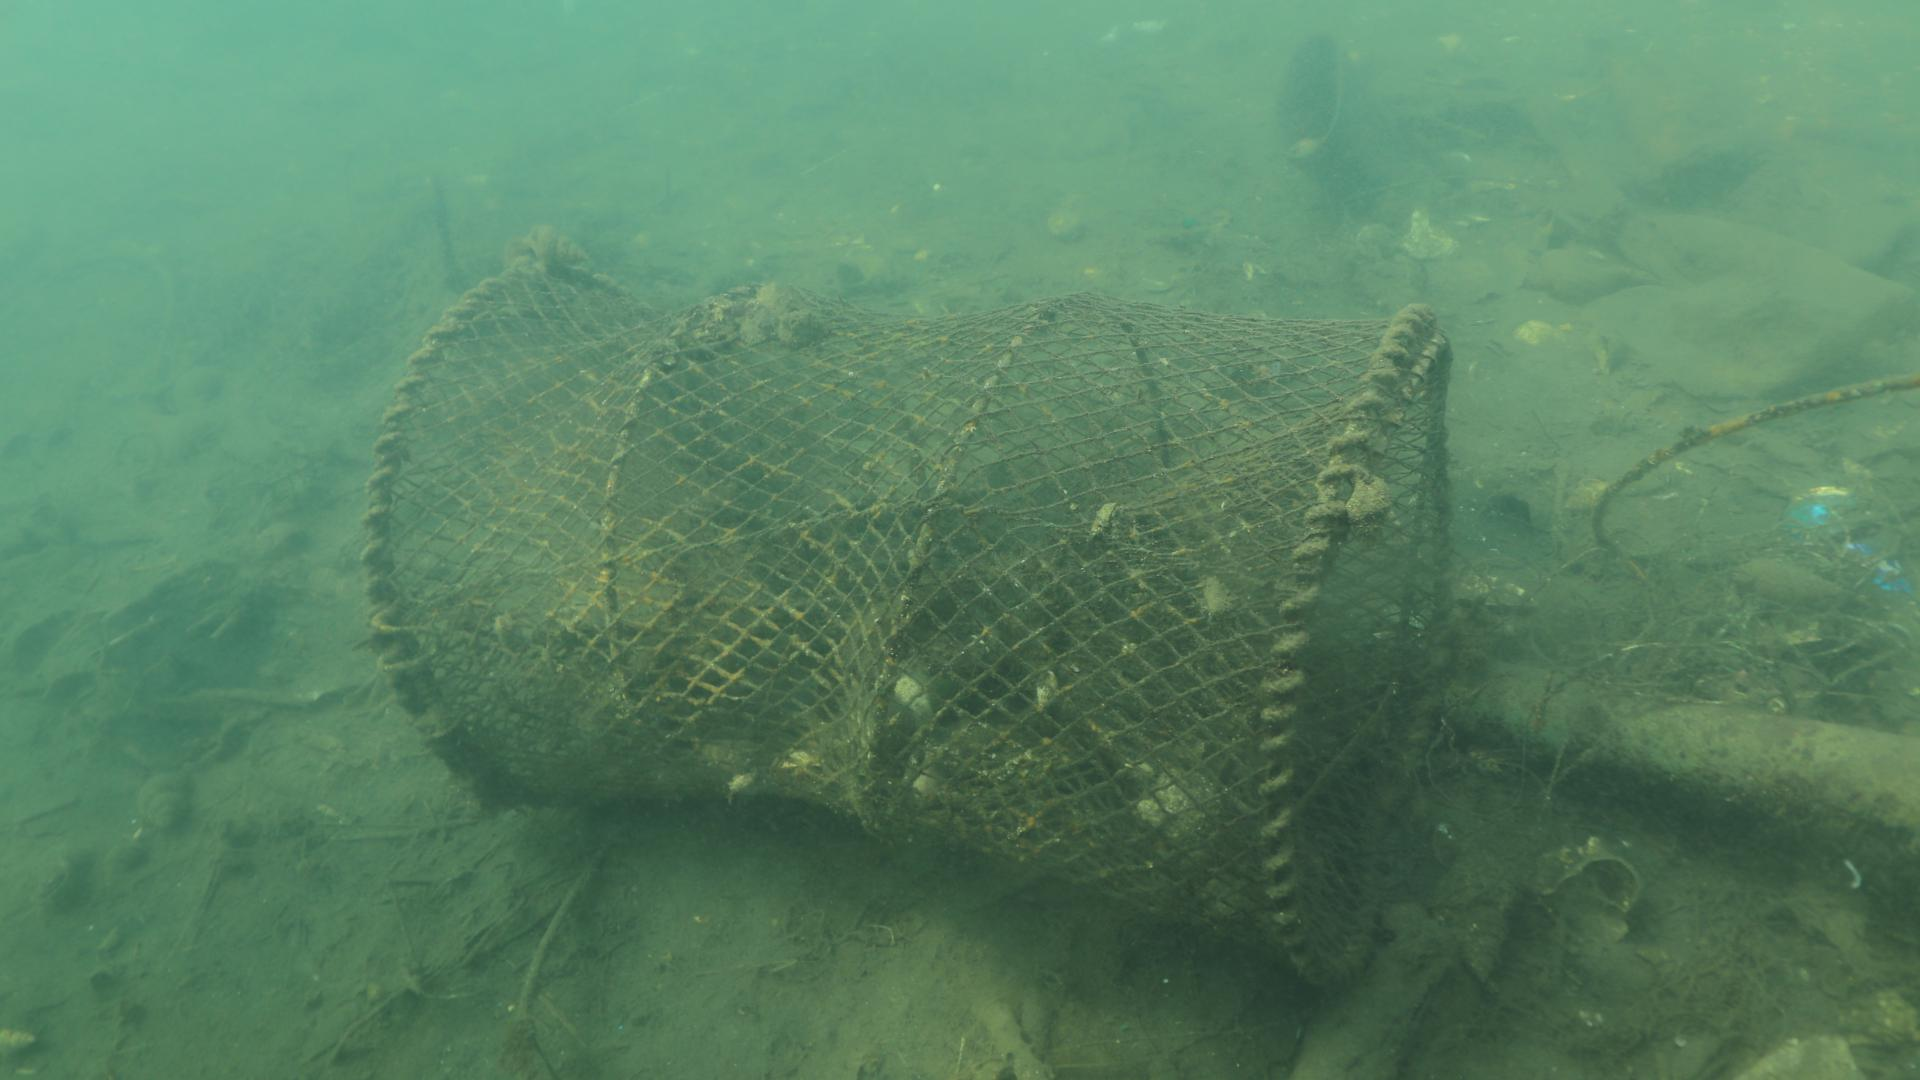spring fish trap: (353, 252, 1452, 992)
